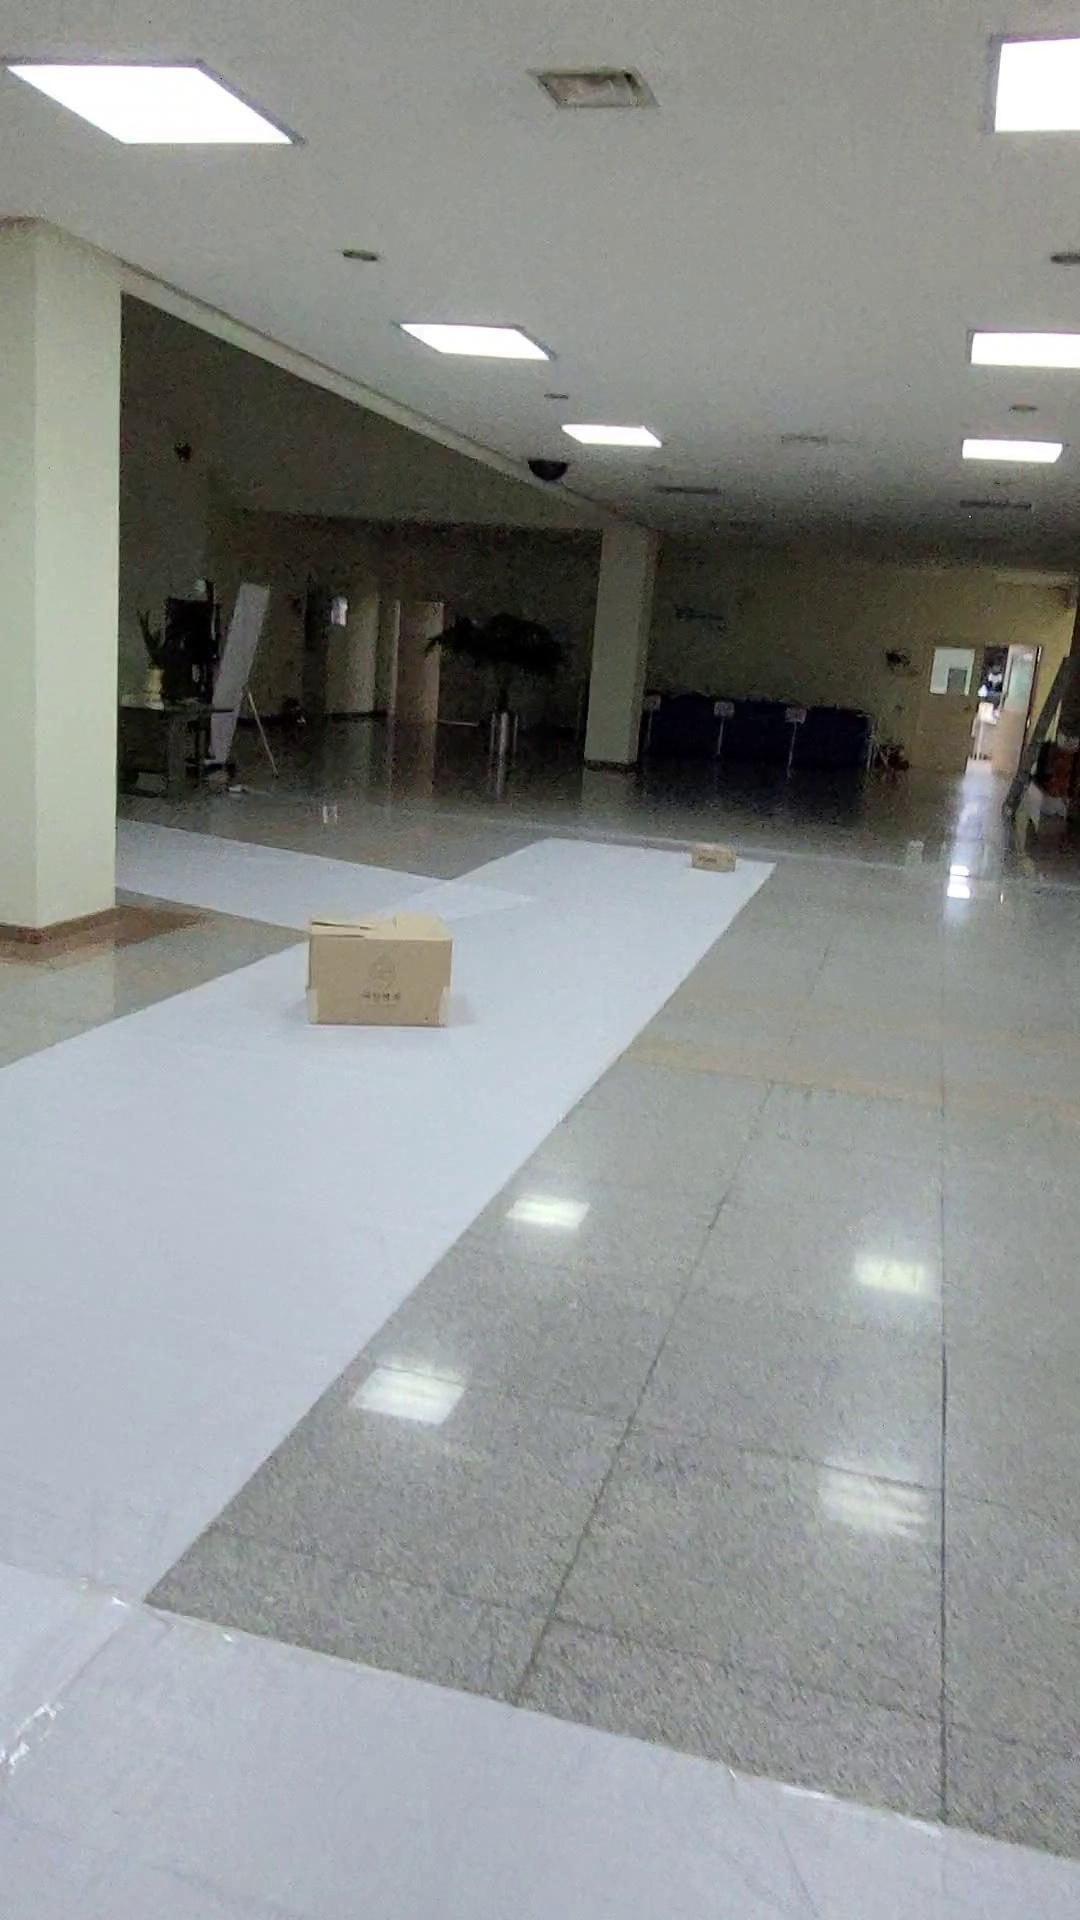Box: (303, 909, 452, 1029)
